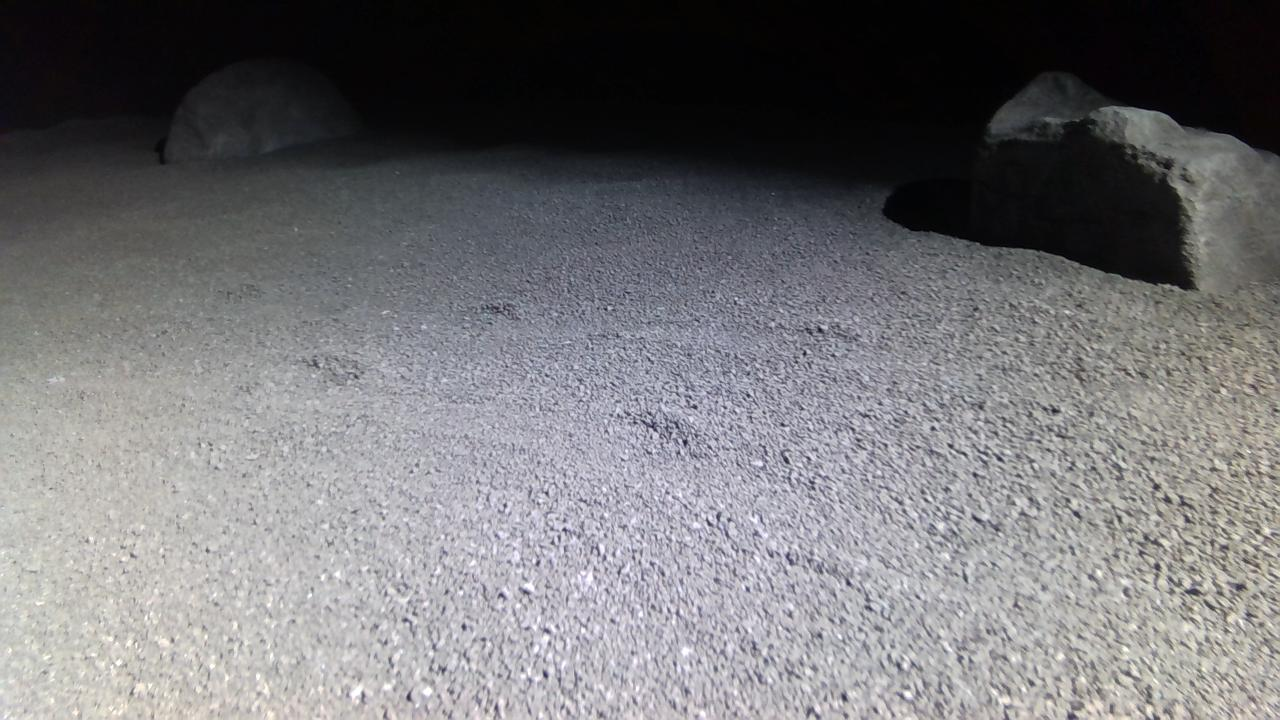rock: (974, 72, 1280, 291), (163, 57, 361, 161)
